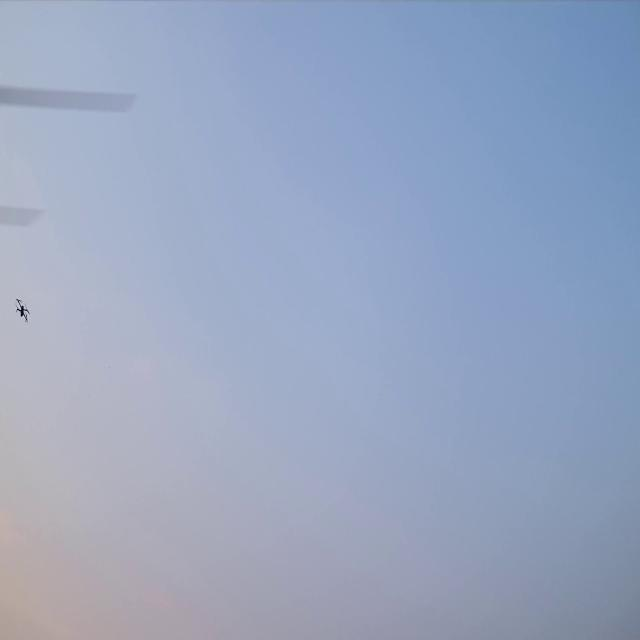UAV: (17, 300, 28, 320)
